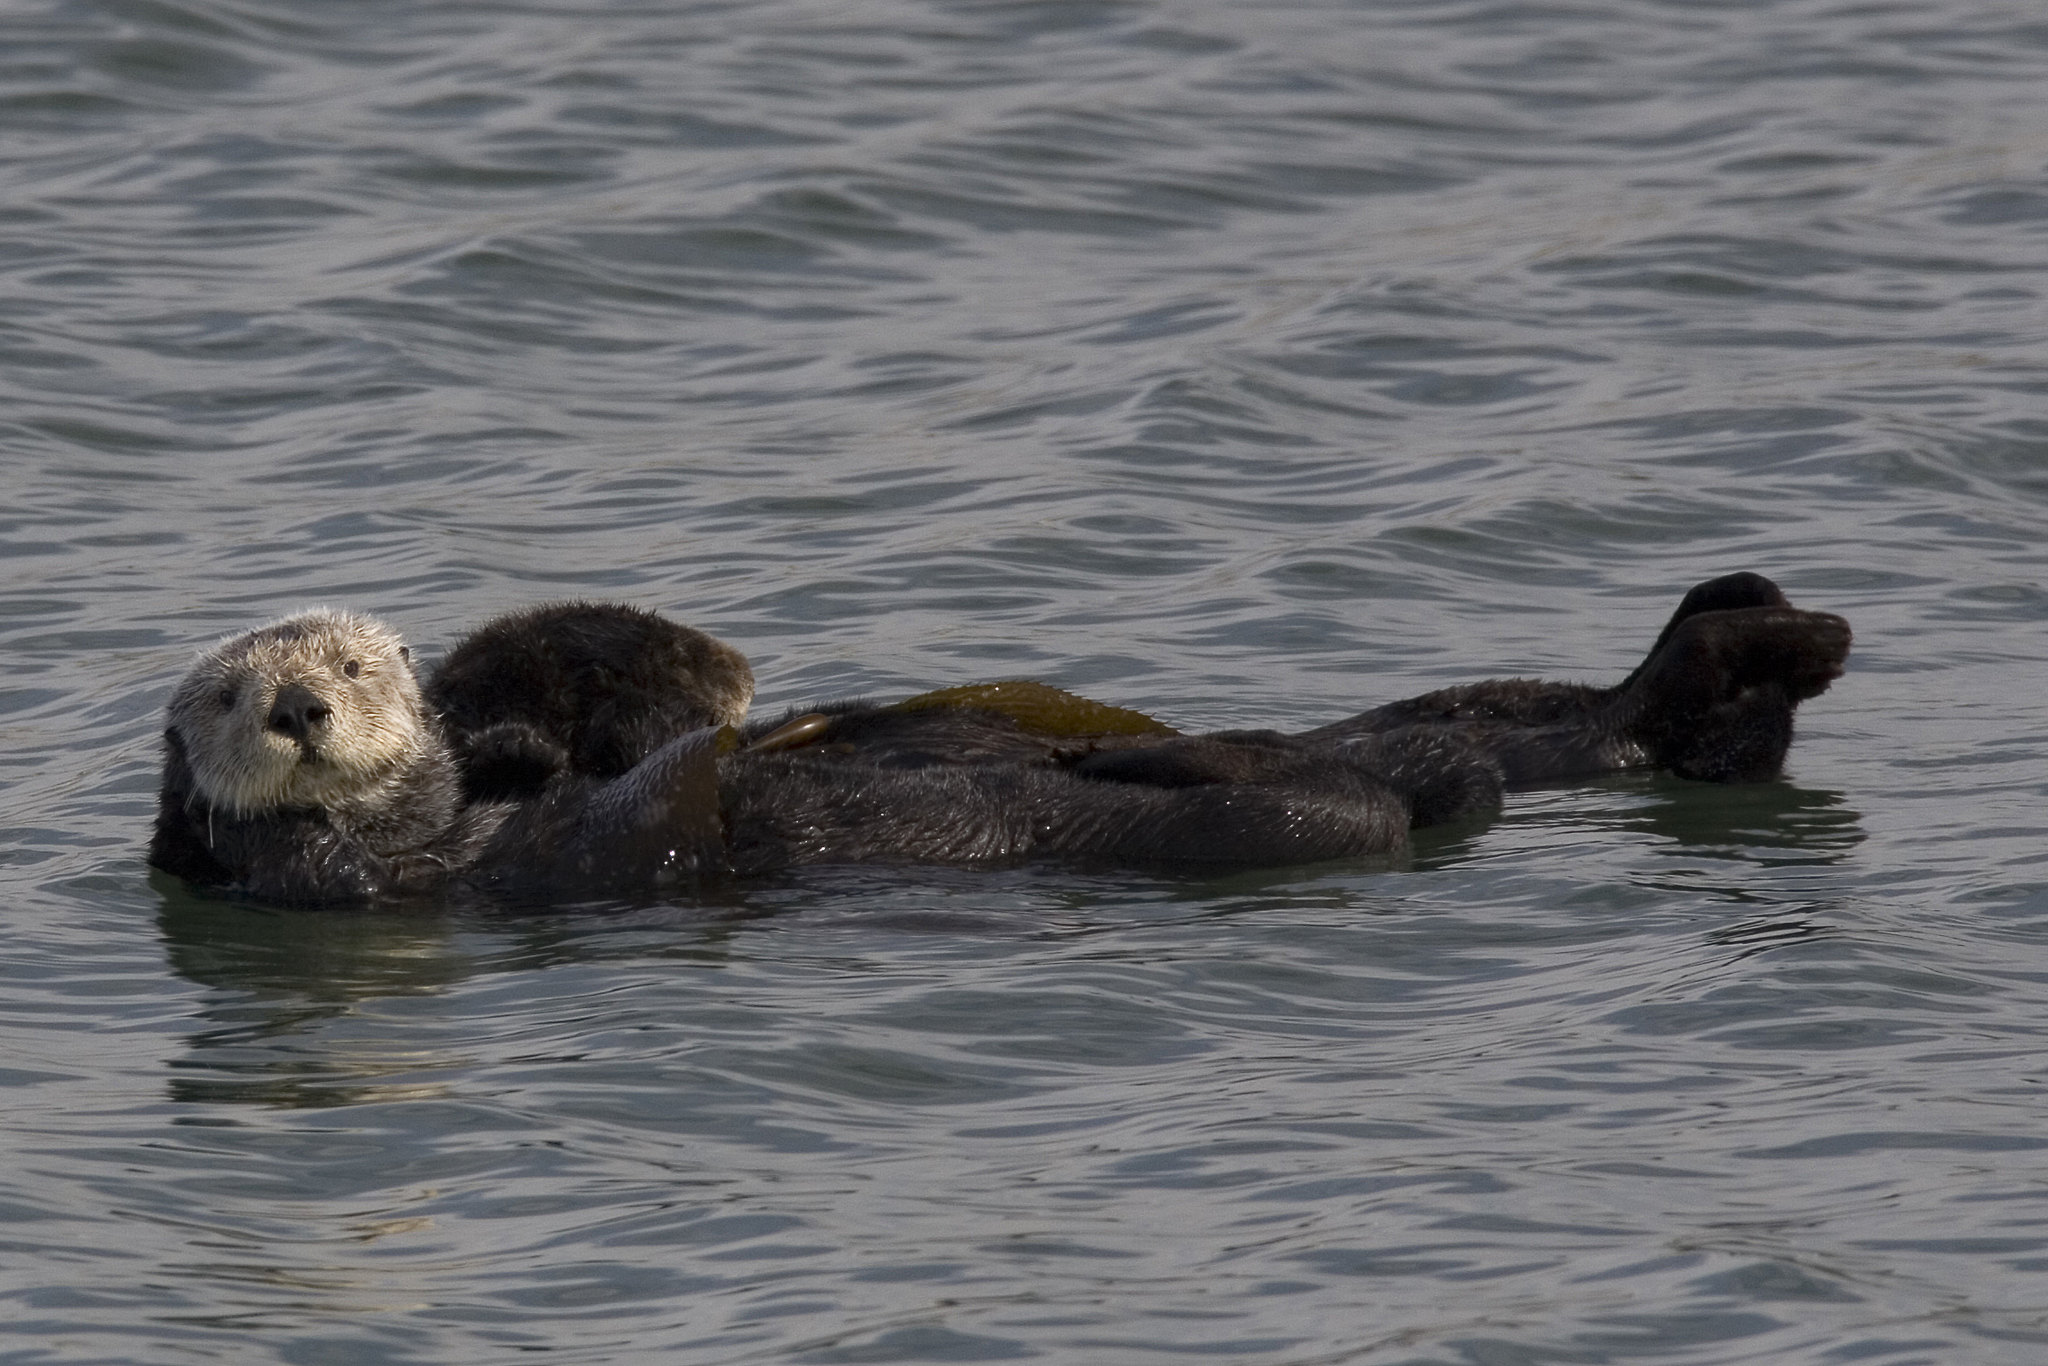otter: (120, 569, 1947, 948)
